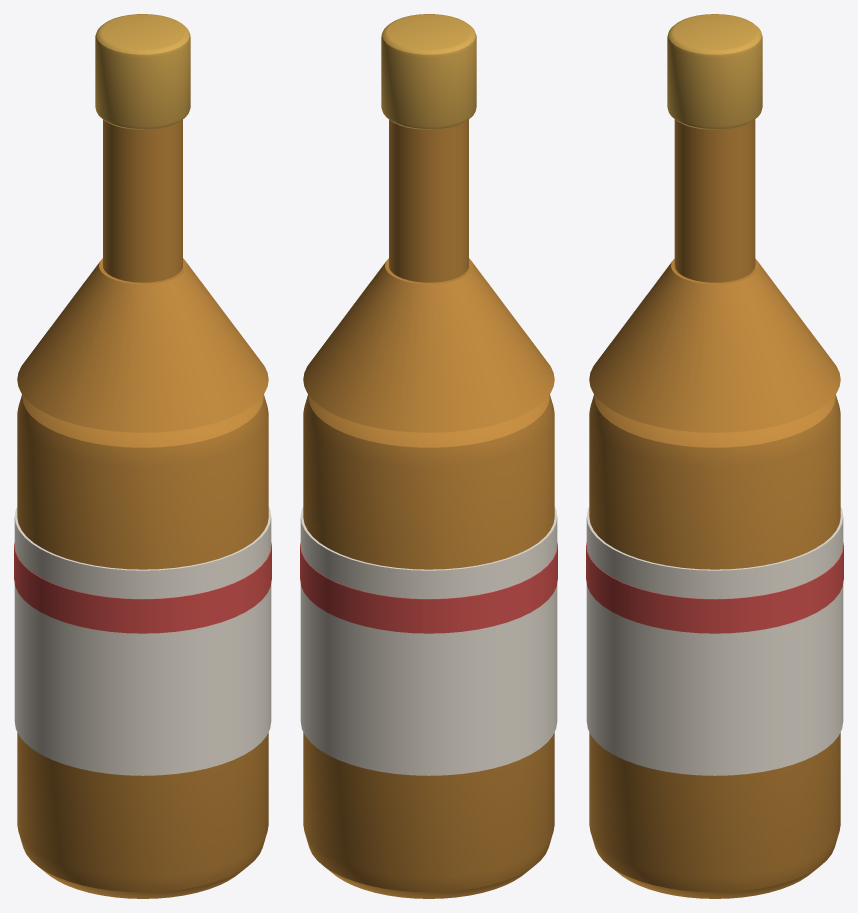
Rendered from bottle.glb.
3 renders of one model, left to right at view 1: azimuth 30°, elevation 25°; view 2: azimuth 150°, elevation 25°; view 3: azimuth 270°, elevation 25°, orthographic.
Visible parts, largest first — view 1: body.005, label.001, shoulder, neck.001, cap.001, labelband; view 2: body.005, label.001, shoulder, neck.001, cap.001, labelband; view 3: body.005, label.001, shoulder, neck.001, cap.001, labelband.
Part boxes in pixels (x1,y1,x2,y2): body.005: [17, 394, 268, 898]; label.001: [14, 507, 271, 775]; shoulder: [17, 258, 268, 432]; neck.001: [103, 119, 182, 282]; cap.001: [95, 14, 190, 129]; labelband: [14, 542, 271, 633]; body.005: [303, 394, 554, 898]; label.001: [300, 507, 557, 775]; shoulder: [303, 258, 554, 432]; neck.001: [389, 119, 468, 282]; cap.001: [381, 14, 476, 129]; labelband: [300, 542, 557, 633]; body.005: [589, 394, 840, 898]; label.001: [586, 507, 843, 775]; shoulder: [589, 258, 840, 432]; neck.001: [674, 119, 755, 282]; cap.001: [667, 14, 762, 129]; labelband: [586, 542, 843, 633].
Bounding box in the file's own units: 0.205 × 0.725 × 0.205.
